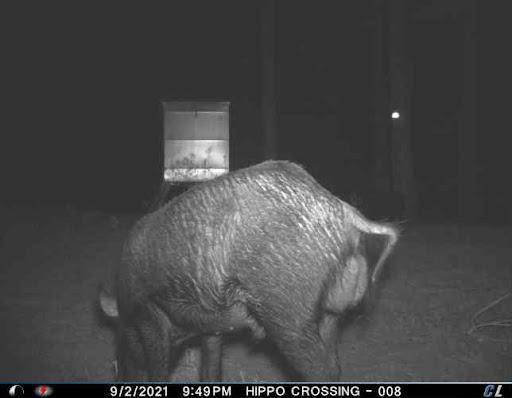Hog: (94, 153, 401, 382)
